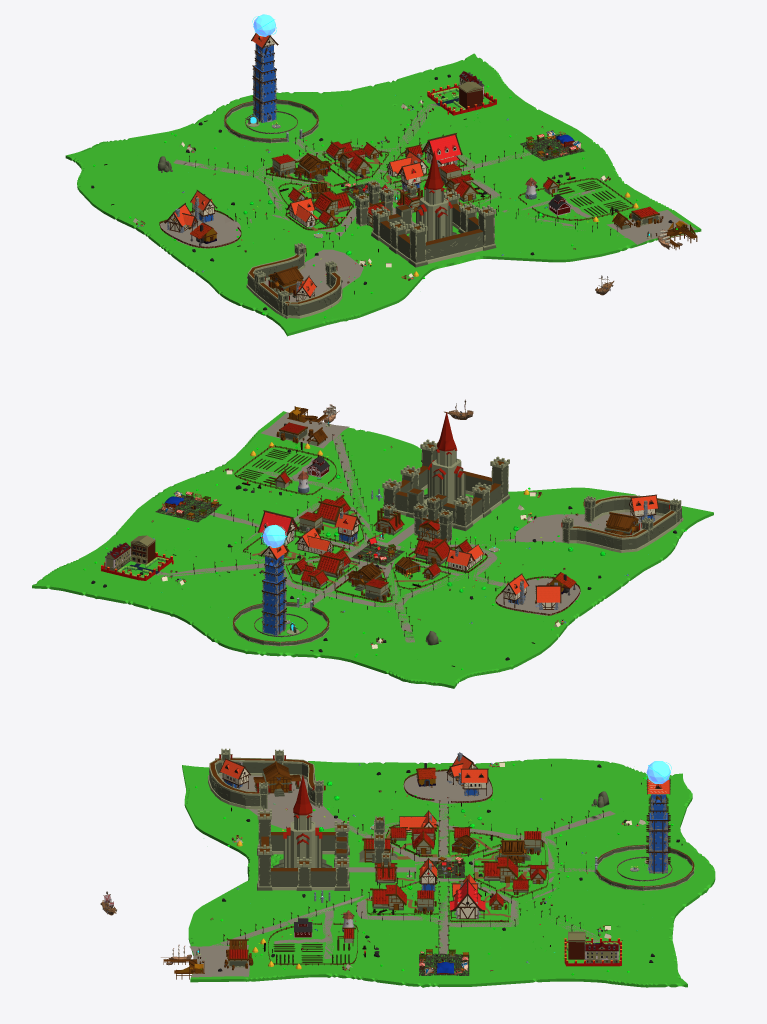
Rendered from island_world_complete_draco.glb.
3 views of the same model, one above another, from view 1: azimuth 30°, elevation 25°; view 2: azimuth 150°, elevation 25°; view 3: azimuth 270°, elevation 25° (orthographic). The views are drawn at different scales.
Visible parts, largest first — view 1: Batch_Persistent_Base_M_Village_Atlas, Batch_Chunk_1_1_M_Village_Atlas, Batch_Chunk_1_0_M_Village_Atlas, Batch_Chunk_0_0_M_Village_Atlas, Batch_Chunk_0_1_M_Village_Atlas, Batch_Chunk_2_0_M_Village_Atlas, Batch_Chunk_1_2_M_Village_Atlas, Batch_Chunk_2_1_M_Village_Atlas, Batch_Chunk_2_2_M_Village_Atlas; view 2: Batch_Persistent_Base_M_Village_Atlas, Batch_Chunk_1_1_M_Village_Atlas, Batch_Chunk_1_0_M_Village_Atlas, Batch_Chunk_0_0_M_Village_Atlas, Batch_Chunk_1_2_M_Village_Atlas, Batch_Chunk_2_0_M_Village_Atlas, Batch_Chunk_0_1_M_Village_Atlas, Batch_Chunk_2_1_M_Village_Atlas, Batch_Chunk_2_2_M_Village_Atlas; view 3: Batch_Persistent_Base_M_Village_Atlas, Batch_Chunk_1_1_M_Village_Atlas, Batch_Chunk_1_0_M_Village_Atlas, Batch_Chunk_0_0_M_Village_Atlas, Batch_Chunk_2_0_M_Village_Atlas, Batch_Chunk_1_2_M_Village_Atlas, Batch_Chunk_0_1_M_Village_Atlas, Batch_Chunk_2_1_M_Village_Atlas, Batch_Chunk_2_2_M_Village_Atlas.
Boxes of the visible parts, x1,y1,x2,y2 form: Batch_Persistent_Base_M_Village_Atlas: [65, 53, 701, 336]; Batch_Chunk_1_1_M_Village_Atlas: [195, 111, 575, 247]; Batch_Chunk_1_0_M_Village_Atlas: [371, 151, 534, 278]; Batch_Chunk_0_0_M_Village_Atlas: [246, 201, 372, 318]; Batch_Chunk_0_1_M_Village_Atlas: [129, 188, 333, 261]; Batch_Chunk_2_0_M_Village_Atlas: [458, 177, 697, 249]; Batch_Chunk_1_2_M_Village_Atlas: [198, 33, 386, 180]; Batch_Chunk_2_1_M_Village_Atlas: [403, 126, 633, 220]; Batch_Chunk_2_2_M_Village_Atlas: [380, 71, 511, 179]; Batch_Persistent_Base_M_Village_Atlas: [32, 411, 713, 688]; Batch_Chunk_1_1_M_Village_Atlas: [194, 451, 510, 631]; Batch_Chunk_1_0_M_Village_Atlas: [382, 412, 530, 531]; Batch_Chunk_0_0_M_Village_Atlas: [415, 494, 686, 555]; Batch_Chunk_1_2_M_Village_Atlas: [210, 544, 389, 652]; Batch_Chunk_2_0_M_Village_Atlas: [238, 406, 392, 520]; Batch_Chunk_0_1_M_Village_Atlas: [409, 544, 601, 630]; Batch_Chunk_2_1_M_Village_Atlas: [151, 445, 354, 563]; Batch_Chunk_2_2_M_Village_Atlas: [83, 535, 321, 592]; Batch_Persistent_Base_M_Village_Atlas: [182, 758, 715, 987]; Batch_Chunk_1_1_M_Village_Atlas: [255, 800, 589, 950]; Batch_Chunk_1_0_M_Village_Atlas: [222, 775, 349, 903]; Batch_Chunk_0_0_M_Village_Atlas: [195, 748, 419, 856]; Batch_Chunk_2_0_M_Village_Atlas: [163, 886, 386, 979]; Batch_Chunk_1_2_M_Village_Atlas: [474, 778, 694, 905]; Batch_Chunk_0_1_M_Village_Atlas: [376, 752, 514, 853]; Batch_Chunk_2_1_M_Village_Atlas: [268, 878, 527, 975]; Batch_Chunk_2_2_M_Village_Atlas: [465, 875, 654, 975].
Size of the model in its own units: 335 by 63.82 by 375.
Materials: 27 (7 with a texture image).
